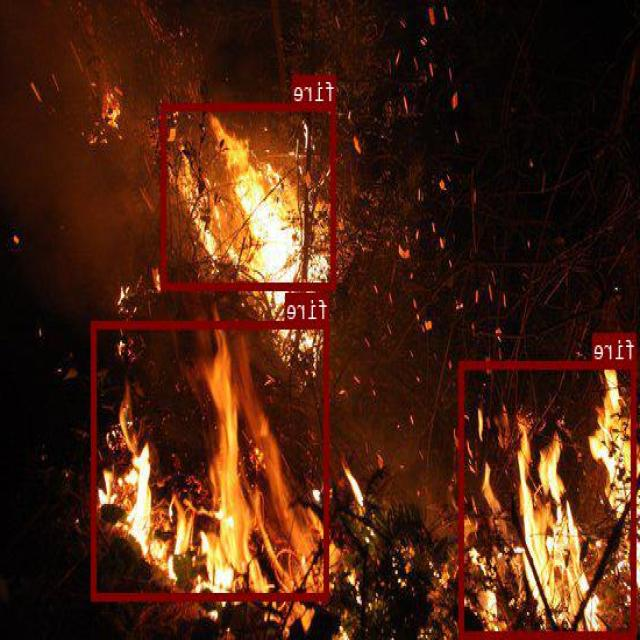fire: (93, 321, 330, 599), (460, 360, 638, 636), (162, 102, 337, 288)
